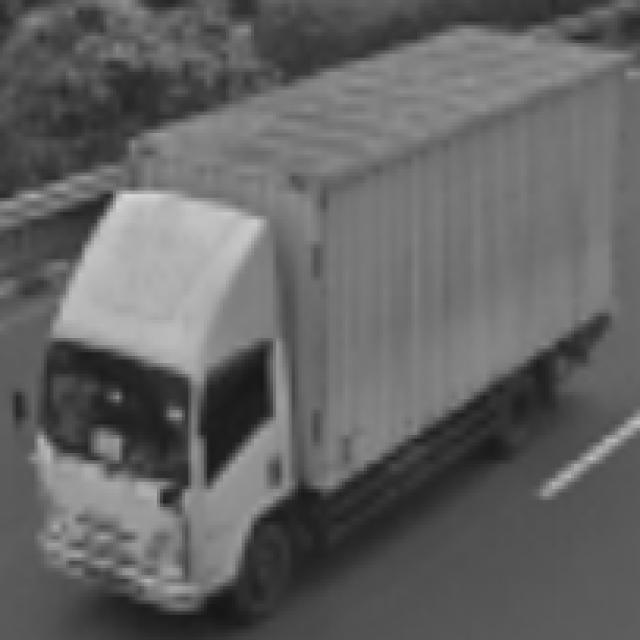truck: (1, 179, 329, 635)
